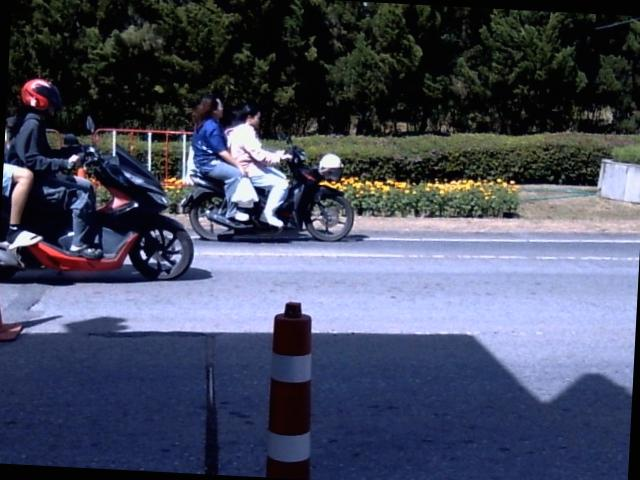helmet: (21, 78, 62, 115)
motor: (0, 140, 192, 280), (180, 146, 354, 241)
no-helmet: (192, 93, 226, 126), (232, 99, 267, 131)
person: (9, 78, 102, 258), (227, 103, 290, 228), (192, 93, 248, 220)
